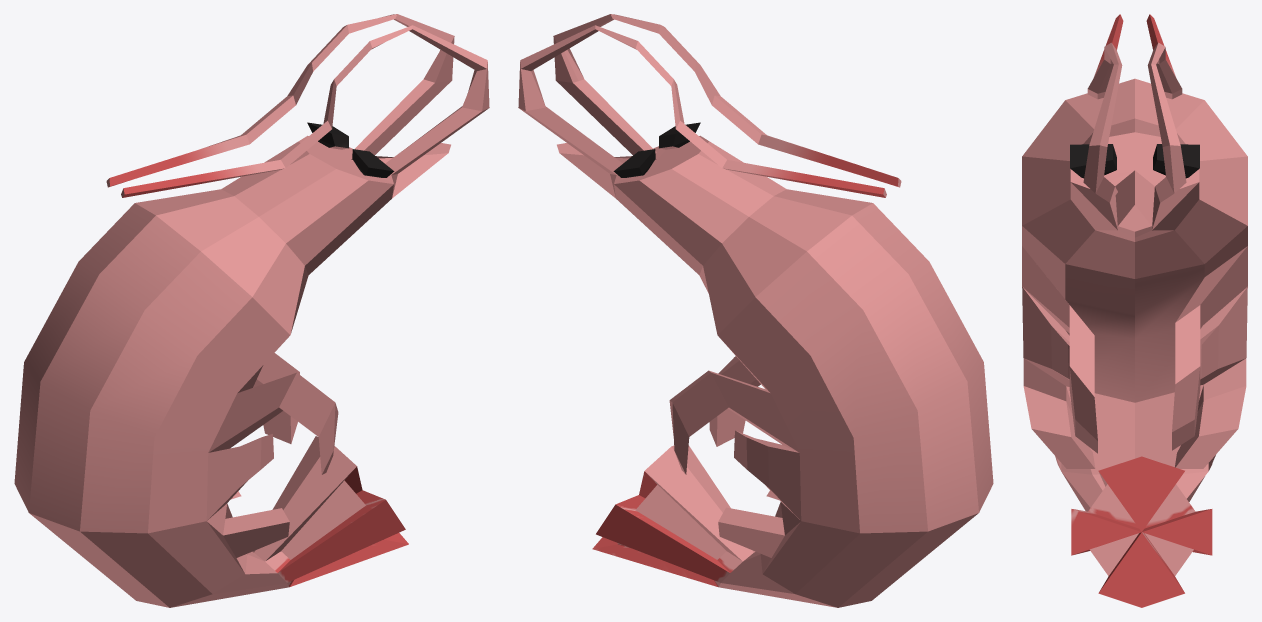
File: Shrimp.fbx
3 renders of one model, left to right at view 1: azimuth 30°, elevation 25°; view 2: azimuth 150°, elevation 25°; view 3: azimuth 270°, elevation 25°, orthographic. The views are drawn at different scales.
Parts seen in each view (by area): view 1: pCylinder1; view 2: pCylinder1; view 3: pCylinder1.
Boxes of the visible parts, x1=… form: pCylinder1: x1=14, y1=14, x2=489, y2=607; pCylinder1: x1=518, y1=14, x2=993, y2=607; pCylinder1: x1=1022, y1=14, x2=1247, y2=607.
Size of the model in its own units: 4.53 by 5.24 by 1.9.
